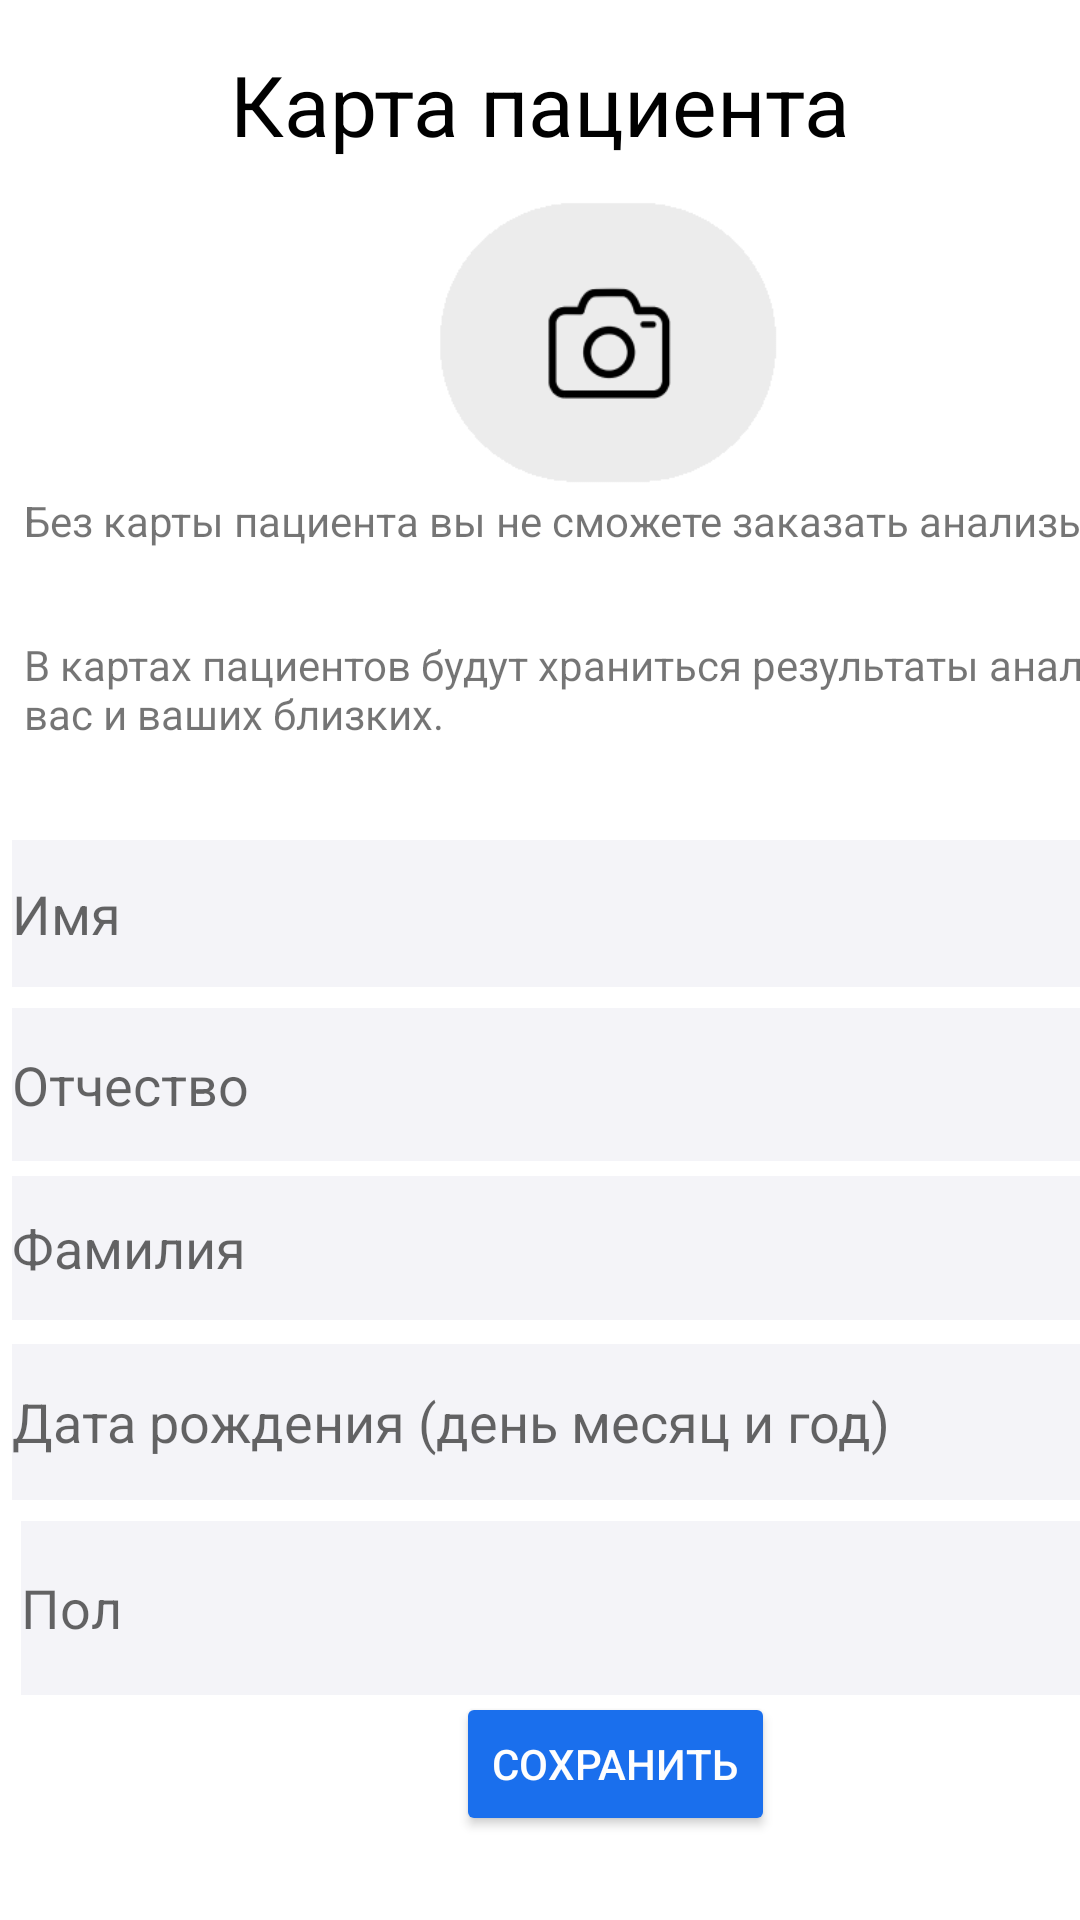

Named icons in this screenshot (1080*1920) and their centers, point (x, y):
fotoselect: point (609, 343)
